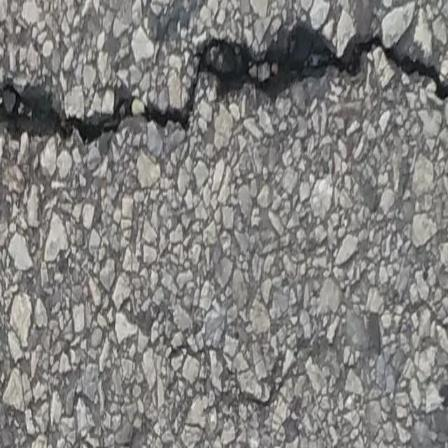crack: (0, 0, 448, 156)
